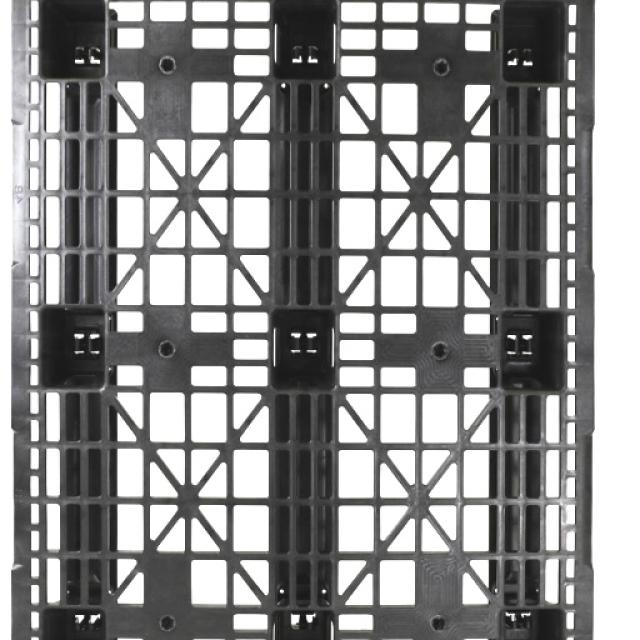non-igps: (5, 0, 609, 640)
